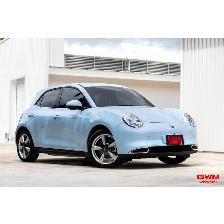EV: (15, 85, 201, 170)
